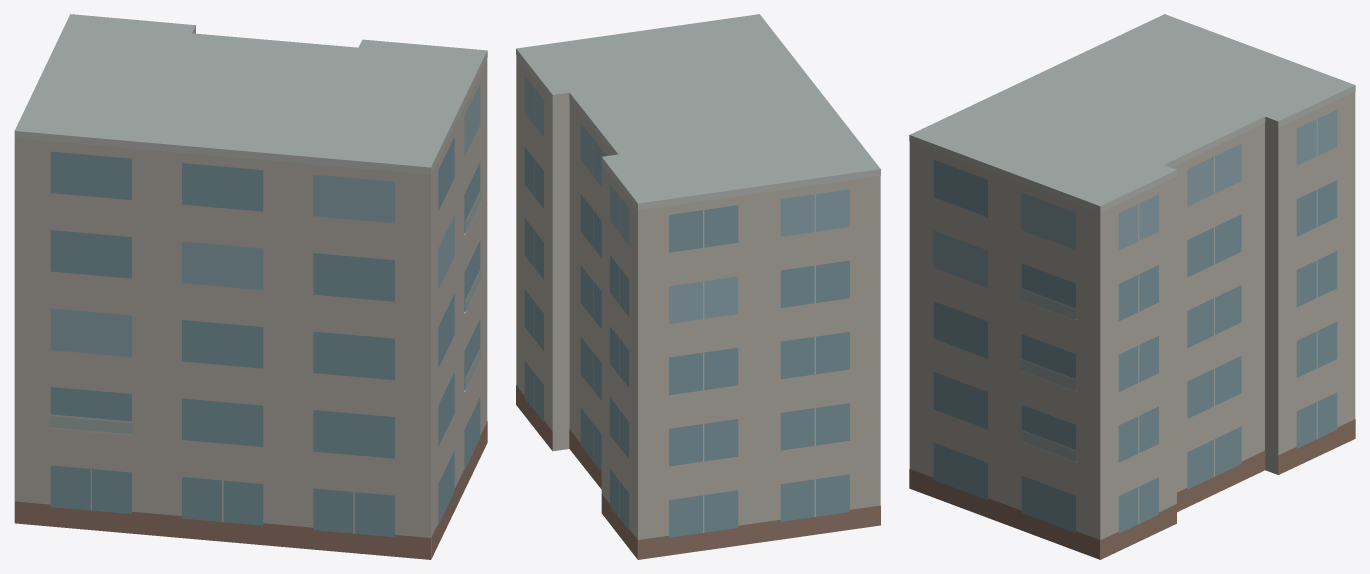
Rendered from survey-upis-32533955.glb.
3 renders of one model, left to right at view 1: azimuth 30°, elevation 25°; view 2: azimuth 150°, elevation 25°; view 3: azimuth 270°, elevation 25°, orthographic. The views are drawn at different scales.
Parts seen in each view (by area): view 1: survey-upis-32533955.tmp; view 2: survey-upis-32533955.tmp; view 3: survey-upis-32533955.tmp.
Part boxes in pixels (x1,y1,x2,y2): survey-upis-32533955.tmp: (14,14,487,559); survey-upis-32533955.tmp: (516,14,880,559); survey-upis-32533955.tmp: (909,14,1355,559).
Size of the model in its own units: 15.52 by 13.3 by 15.21.
